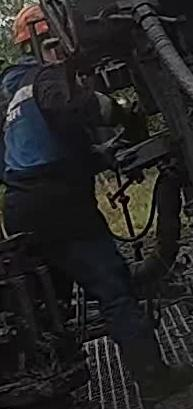gloves: (97, 91, 145, 136)
helmet: (10, 6, 56, 45)
vest: (0, 0, 192, 407), (0, 63, 99, 212)
